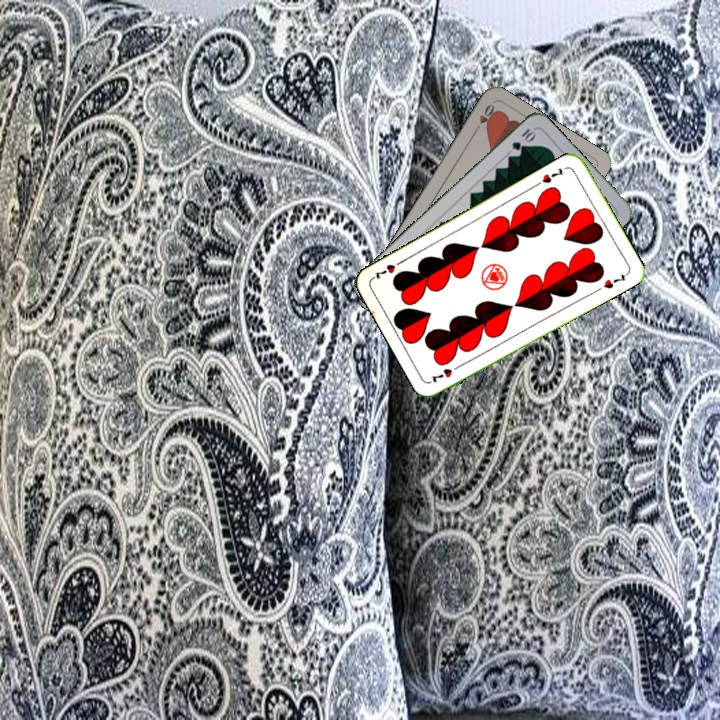G10: (508, 124, 538, 153)
H7: (427, 360, 464, 385), (538, 164, 566, 186)
HO: (470, 100, 498, 136)
